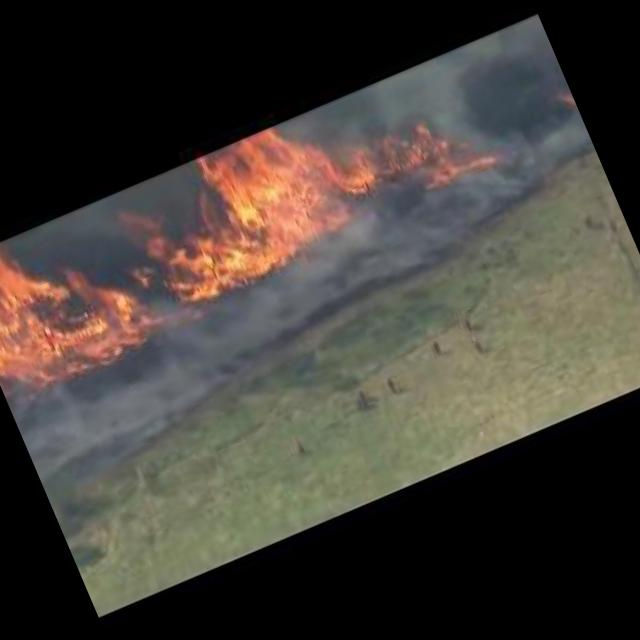fire: (117, 53, 497, 304), (0, 212, 145, 402)
